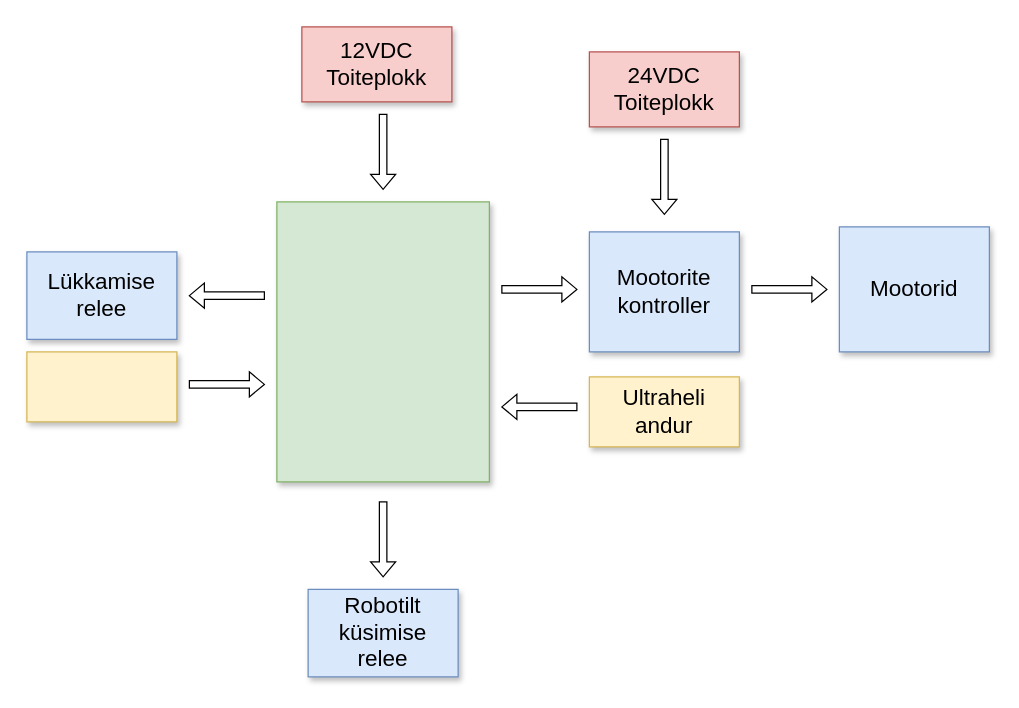
The diagram is 1019 pixels wide and 708 high, and some of its shapes have lost their labels. Each missing label, with the centre of its shape:
"Kolvi lüliti" goes at [102,388].
"MCU (Arduino Uno)" goes at [384,343].
